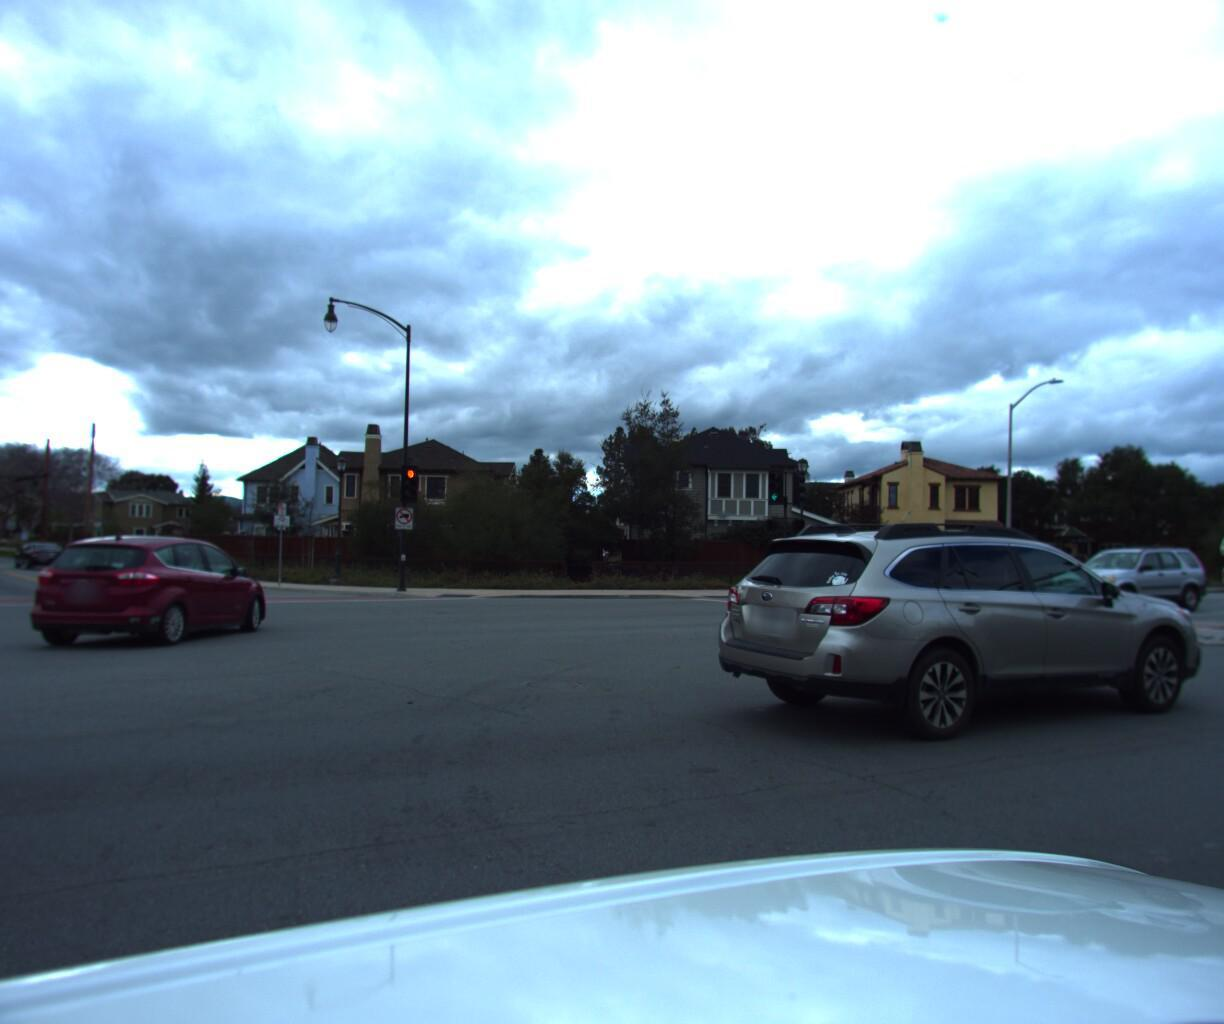car: (697, 507, 1224, 759), (17, 531, 282, 658), (1018, 538, 1209, 616), (1113, 552, 1224, 606), (12, 543, 72, 576)
other_vehicle: (1195, 528, 1224, 597)
